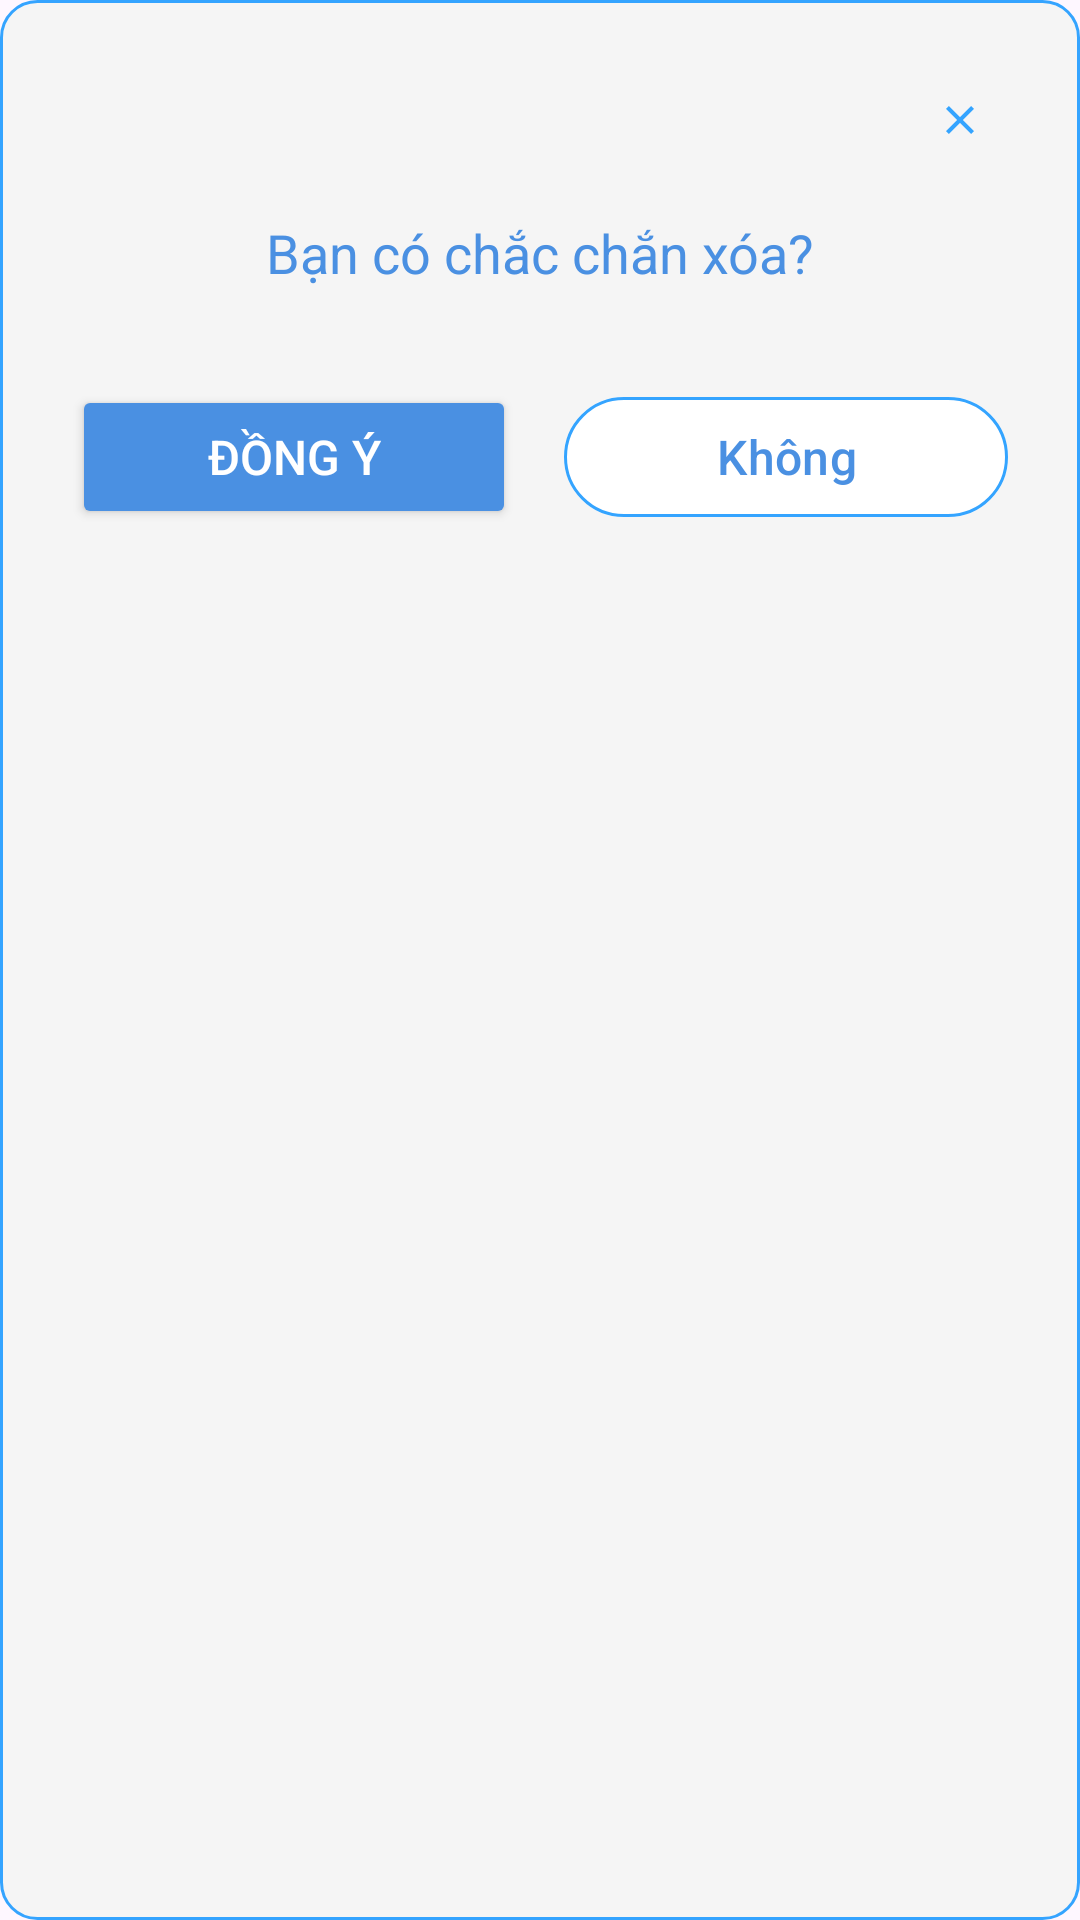

Point at icon controls on the screen. Image size 1080x1920, points as (x,y).
Đóng: (960,120)
